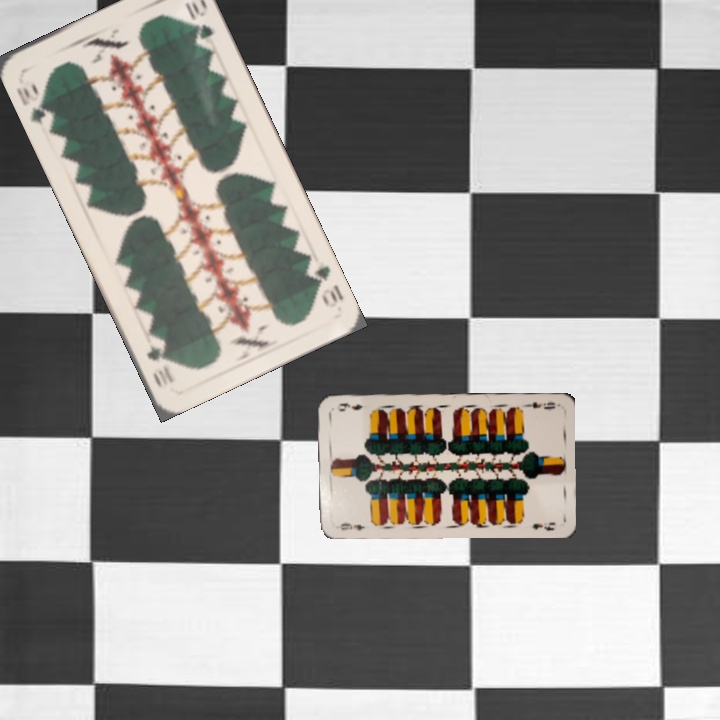E9: (520, 397, 560, 411), (332, 519, 367, 533)
G10: (302, 259, 346, 311), (13, 79, 57, 128)
